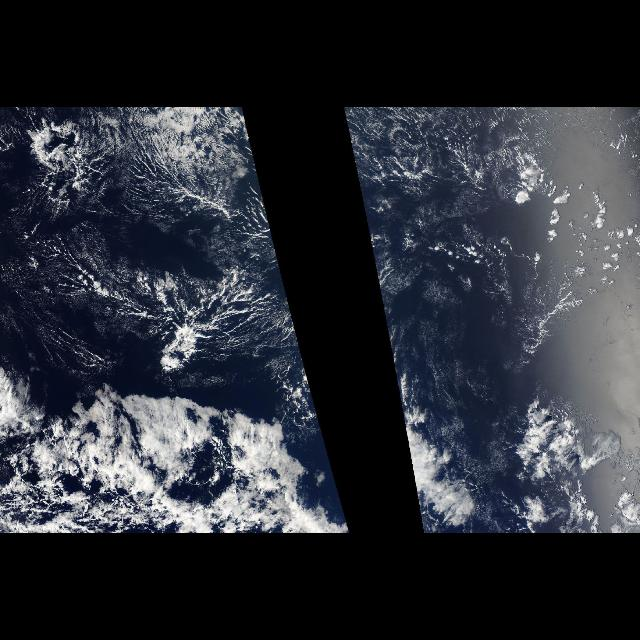Fish: (3, 110, 299, 398)
Flower: (10, 110, 100, 386)
Sugar: (352, 116, 602, 342)
